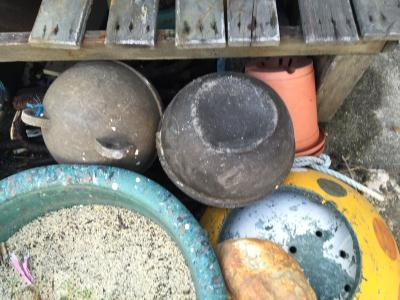bowl: (153, 65, 299, 212), (34, 61, 167, 190)
